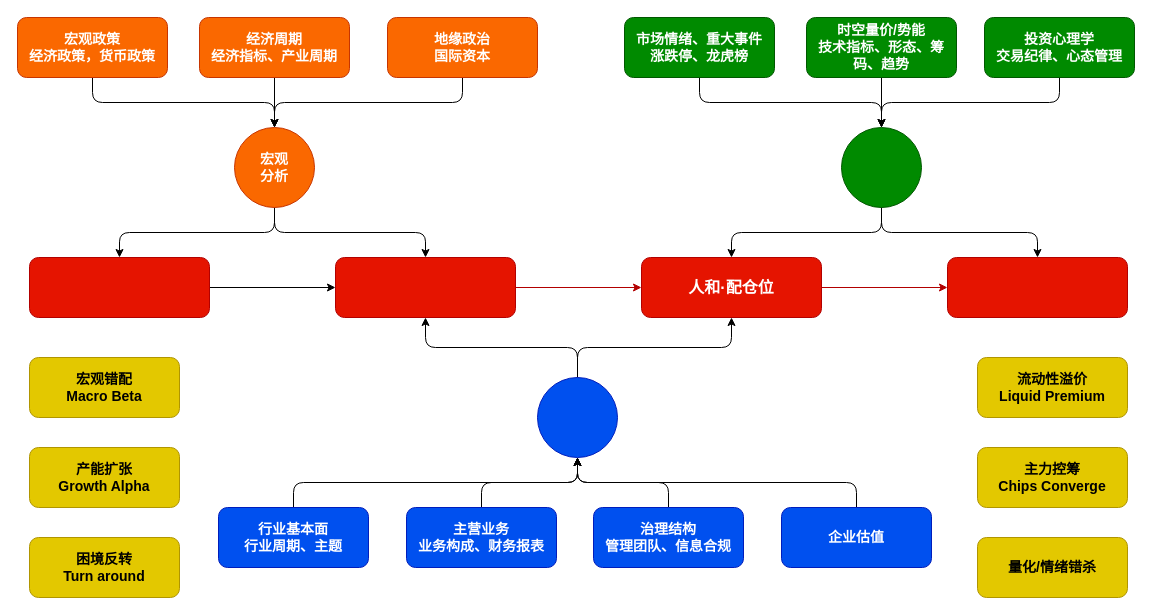
Image size: 1152x615. Some labels were removed from this diagram. Here are the shapes that lost their labels. From the top down, the centre of each, then its label:
the point at 881,167: 行为 分析
the point at 119,287: 天时·看市场
the point at 425,287: 地利·选公司
the point at 1037,287: 势成·定买卖
the point at 577,417: 经营 分析
